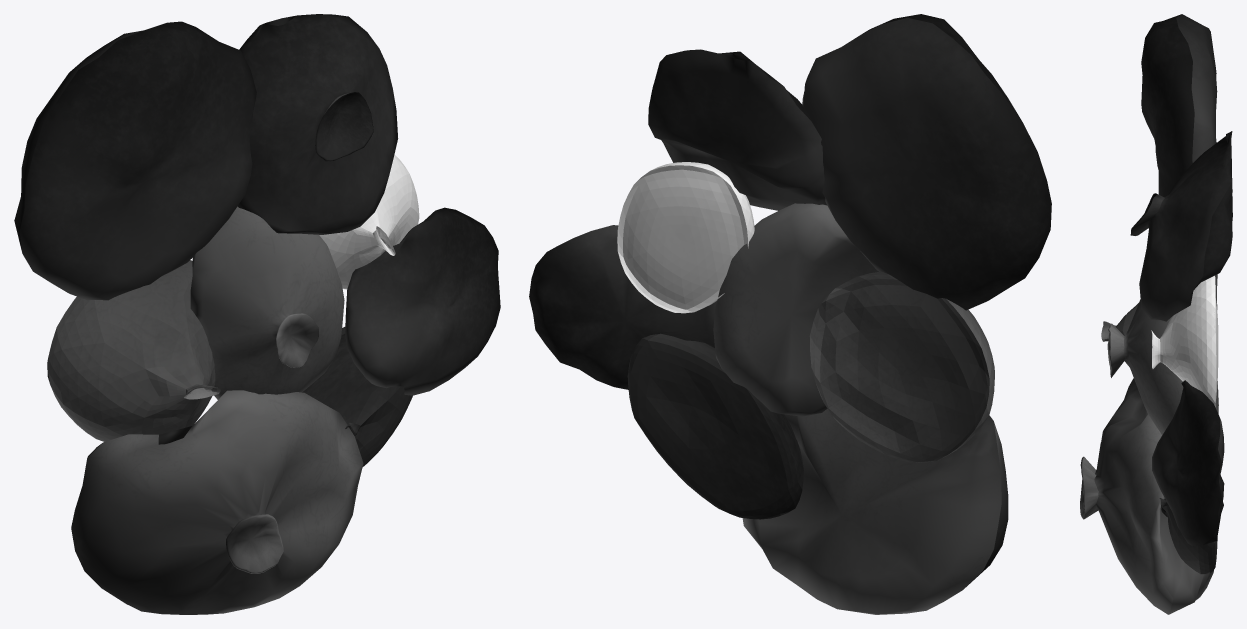
The model's file is bags.obj.
3 views of the same model, side by side, from view 1: azimuth 30°, elevation 25°; view 2: azimuth 150°, elevation 25°; view 3: azimuth 270°, elevation 25° (orthographic). The views are drawn at different scales.
Parts seen in each view (by area): view 1: trash6_trash1_Sphere.001, trash1_trash1_Sphere, trash4_trash2_Sphere.001, trash3_trash3_Sphere.003, bag3_Icosphere.002, trash2_trash2_Sphere.000, bag1_Icosphere, bag2_Icosphere.001; view 2: trash6_trash1_Sphere.001, trash1_trash1_Sphere, bag3_Icosphere.002, bag1_Icosphere, trash3_trash3_Sphere.003, trash4_trash2_Sphere.001, bag2_Icosphere.001, trash2_trash2_Sphere.000; view 3: trash1_trash1_Sphere, trash4_trash2_Sphere.001, trash6_trash1_Sphere.001, trash2_trash2_Sphere.000, bag2_Icosphere.001, trash3_trash3_Sphere.003, bag1_Icosphere, bag3_Icosphere.002.
Part boxes in pixels (box(x1,y1,x2,y2)): trash6_trash1_Sphere.001: box(14, 21, 256, 300); trash1_trash1_Sphere: box(71, 390, 363, 614); trash4_trash2_Sphere.001: box(237, 14, 398, 234); trash3_trash3_Sphere.003: box(190, 206, 344, 399); bag3_Icosphere.002: box(47, 260, 220, 441); trash2_trash2_Sphere.000: box(345, 207, 500, 395); bag1_Icosphere: box(302, 327, 412, 466); bag2_Icosphere.001: box(319, 154, 419, 289); trash6_trash1_Sphere.001: box(802, 14, 1051, 310); trash1_trash1_Sphere: box(742, 409, 1008, 614); bag3_Icosphere.002: box(809, 271, 994, 462); bag1_Icosphere: box(627, 332, 803, 519); trash3_trash3_Sphere.003: box(713, 203, 878, 416); trash4_trash2_Sphere.001: box(648, 49, 826, 210); bag2_Icosphere.001: box(617, 162, 754, 313); trash2_trash2_Sphere.000: box(529, 225, 716, 389); trash1_trash1_Sphere: box(1080, 378, 1213, 614); trash4_trash2_Sphere.001: box(1130, 131, 1232, 321); trash6_trash1_Sphere.001: box(1141, 14, 1217, 197); trash2_trash2_Sphere.000: box(1152, 380, 1224, 546); bag2_Icosphere.001: box(1151, 275, 1218, 407); trash3_trash3_Sphere.003: box(1107, 275, 1218, 434); bag1_Icosphere: box(1159, 498, 1217, 574); bag3_Icosphere.002: box(1101, 274, 1217, 341).
Size of the model in its own units: 0.9745 by 1.13 by 0.2858.
Materials: 3 (3 with a texture image).
